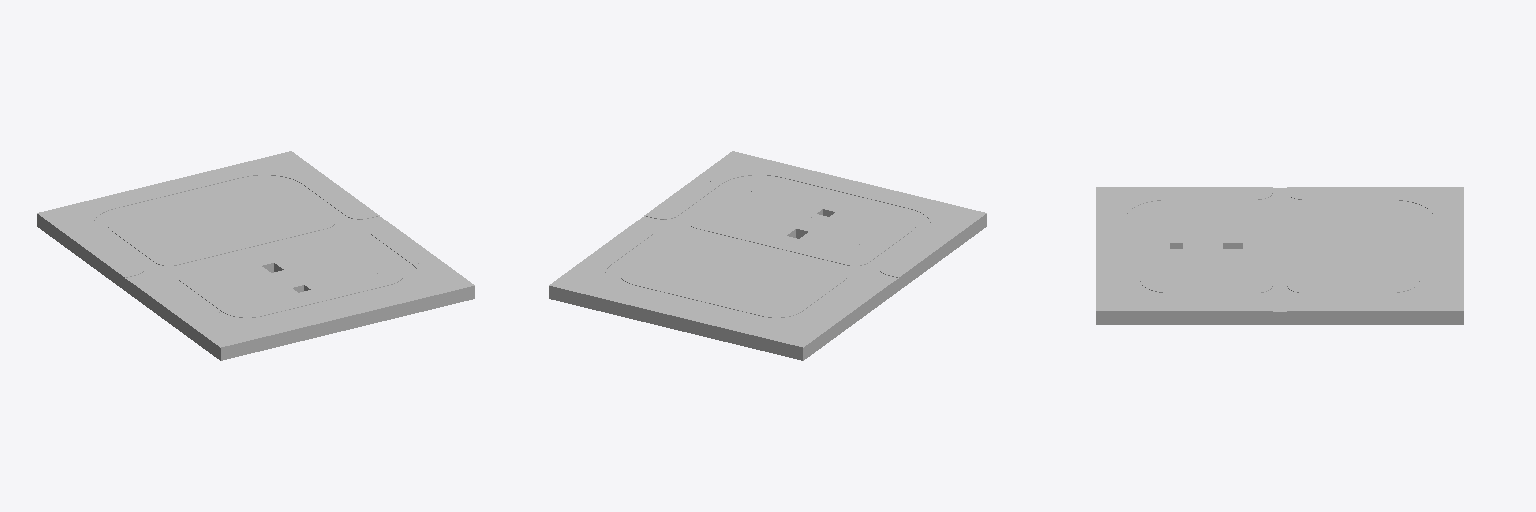
The model's file is (deprecated) Road.obj.
3 renders of one model, left to right at view 1: azimuth 30°, elevation 25°; view 2: azimuth 150°, elevation 25°; view 3: azimuth 270°, elevation 25°, orthographic.
Visible parts, largest first — view 1: tile-road-curve (1), tile-road-straight (5), tile-road-straight (11), tile-road-curve (2), tile-road-curve, tile-road-intersection (1), tile-road-straight (9), tile-road-straight (7), tile-plain (18), tile-road-straight (2), tile-road-curve (3), tile-road-straight (10) (+8 smaller); view 2: tile-road-curve, tile-road-straight (6), tile-road-straight (12), tile-road-curve (3), tile-road-curve (1), tile-road-intersection (1), tile-road-straight (7), tile-road-straight (9), tile-plain (18), tile-road-straight (11), tile-road-curve (2), tile-road-straight (8) (+9 smaller); view 3: tile-road-curve (3), tile-road-intersection, tile-road-curve (2), tile-road-straight (10), tile-road-straight (8), tile-road-curve (1), tile-road-curve, tile-road-straight (11), tile-road-straight (3), tile-road-straight (5), tile-road-straight (12), tile-road-straight (6) (+9 smaller).
Part boxes in pixels (x1,y1,x2,y2): tile-road-curve (1): (184,305,283,360); tile-road-straight (5): (312,274,411,329); tile-road-straight (11): (248,290,347,344); tile-road-curve (2): (375,259,474,313); tile-road-curve: (37,198,136,252); tile-road-intersection (1): (110,252,209,306); tile-road-straight (9): (147,278,245,333); tile-road-straight (7): (74,225,173,279); tile-plain (18): (274,247,373,290); tile-road-straight (2): (174,236,273,277); tile-road-curve (3): (228,151,327,192); tile-road-straight (10): (338,232,437,273); tile-road-curve: (740,305,839,360); tile-road-straight (6): (612,274,711,329); tile-road-straight (12): (676,290,775,344); tile-road-curve (3): (549,259,648,313); tile-road-curve (1): (887,198,986,252); tile-road-intersection (1): (814,252,913,306); tile-road-straight (7): (778,278,876,333); tile-road-straight (9): (850,225,949,279); tile-plain (18): (723,193,822,237); tile-road-straight (11): (823,182,922,223); tile-road-curve (2): (696,151,795,192); tile-road-straight (8): (586,232,685,273); tile-road-curve (3): (1390,280,1463,324); tile-road-intersection: (1243,280,1316,324); tile-road-curve (2): (1096,280,1169,324); tile-road-straight (10): (1170,280,1242,324); tile-road-straight (8): (1317,280,1389,324); tile-road-curve (1): (1096,187,1169,218); tile-road-curve: (1390,187,1463,218); tile-road-straight (11): (1096,218,1169,249); tile-road-straight (3): (1243,249,1316,280); tile-road-straight (5): (1096,249,1169,280); tile-road-straight (12): (1390,218,1463,249); tile-road-straight (6): (1390,249,1463,280).
Bounding box in the file's own units: 120 × 6 × 150.